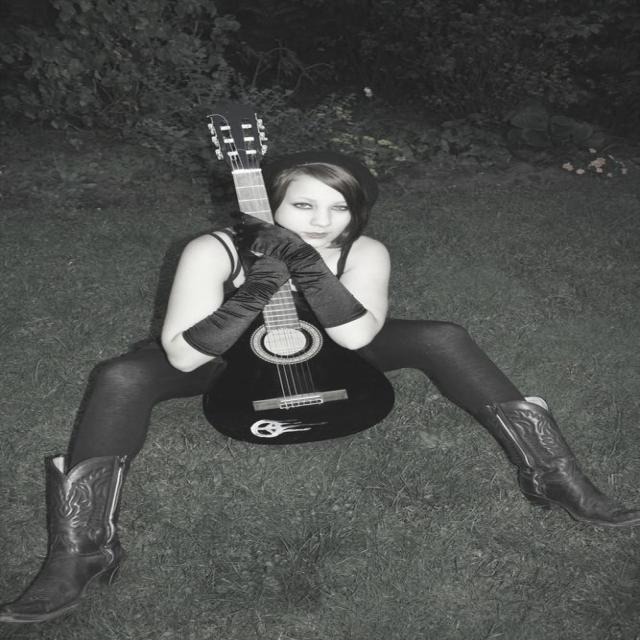guitar: (193, 95, 402, 450)
